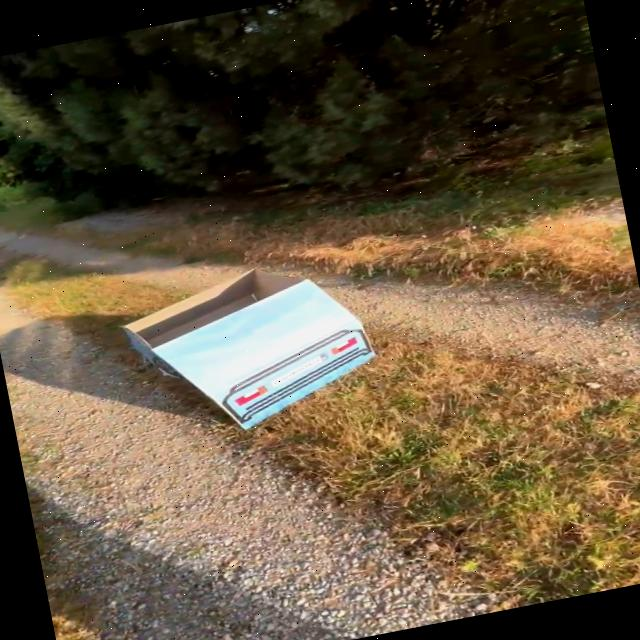blue_car: (61, 230, 458, 474)
